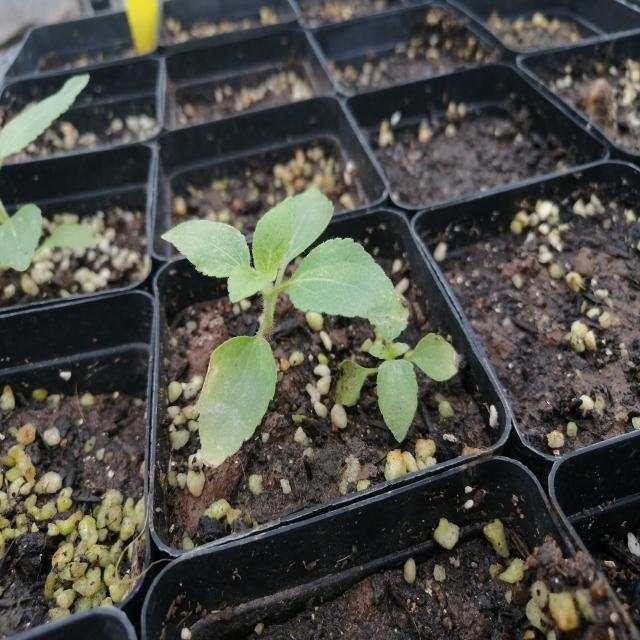billygoat_weed: (170, 178, 391, 465)
